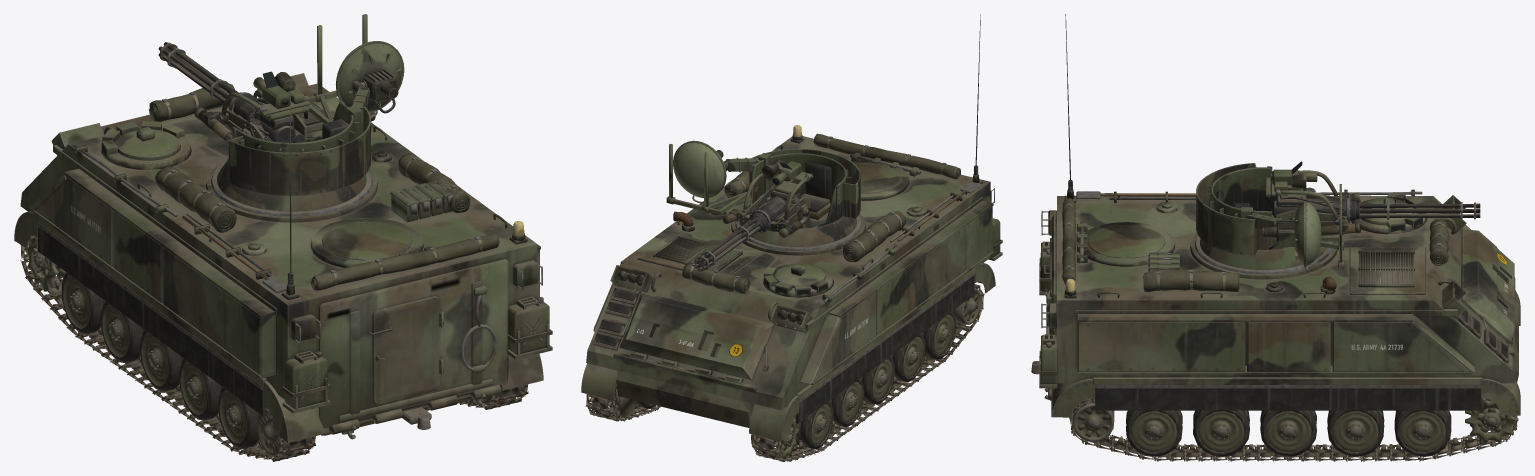
3 renders of one model, left to right at view 1: azimuth 30°, elevation 25°; view 2: azimuth 150°, elevation 25°; view 3: azimuth 270°, elevation 25°, orthographic. The views are drawn at different scales.
Visible parts, largest first — view 1: body_detail, body_hull, body_pods, turret_main, body_kit, body_wheels, cradle_gun, body_track, dish_radar, turret_detail, barrels_cluster, body_sprockets (+1 smaller); view 2: body_hull, body_vane, body_pods, body_detail, turret_main, body_kit, body_wheels, cradle_gun, body_track, turret_detail, dish_radar, barrels_cluster (+2 smaller); view 3: body_hull, body_pods, body_detail, body_wheels, turret_main, body_kit, body_vane, body_track, cradle_gun, dish_radar, barrels_cluster, body_sprockets (+2 smaller).
Boxes of the visible parts, x1=… form: body_detail: x1=51, y1=73, x2=552, y2=439; body_hull: x1=14, y1=83, x2=543, y2=442; body_pods: x1=30, y1=168, x2=540, y2=378; turret_main: x1=205, y1=100, x2=377, y2=222; body_kit: x1=72, y1=83, x2=499, y2=292; body_wheels: x1=61, y1=273, x2=258, y2=448; cradle_gun: x1=194, y1=71, x2=310, y2=142; body_track: x1=20, y1=235, x2=528, y2=461; dish_radar: x1=335, y1=41, x2=404, y2=117; turret_detail: x1=242, y1=14, x2=369, y2=142; barrels_cluster: x1=158, y1=42, x2=239, y2=107; body_sprockets: x1=25, y1=236, x2=66, y2=291; body_hull: x1=581, y1=136, x2=995, y2=441; body_vane: x1=592, y1=285, x2=774, y2=392; body_pods: x1=593, y1=201, x2=993, y2=385; body_detail: x1=610, y1=14, x2=1002, y2=332; turret_main: x1=731, y1=149, x2=865, y2=255; body_kit: x1=682, y1=133, x2=981, y2=302; body_wheels: x1=636, y1=311, x2=955, y2=449; cradle_gun: x1=722, y1=161, x2=813, y2=237; body_track: x1=585, y1=284, x2=984, y2=461; turret_detail: x1=666, y1=144, x2=831, y2=228; dish_radar: x1=673, y1=140, x2=726, y2=203; barrels_cluster: x1=694, y1=216, x2=763, y2=271; body_hull: x1=1051, y1=196, x2=1520, y2=417; body_pods: x1=1077, y1=314, x2=1474, y2=374; body_detail: x1=1031, y1=14, x2=1466, y2=400; body_wheels: x1=1126, y1=410, x2=1451, y2=456; turret_main: x1=1190, y1=163, x2=1337, y2=279; body_kit: x1=1062, y1=187, x2=1448, y2=292; body_vane: x1=1456, y1=229, x2=1514, y2=363; body_track: x1=1069, y1=397, x2=1517, y2=461; cradle_gun: x1=1265, y1=161, x2=1360, y2=235; dish_radar: x1=1262, y1=201, x2=1321, y2=271; barrels_cluster: x1=1356, y1=202, x2=1480, y2=219; body_sprockets: x1=1465, y1=398, x2=1518, y2=444.
Bounding box in the file's own units: 2.87 × 3.94 × 5.03.
Materials: 4 (3 with a texture image).
